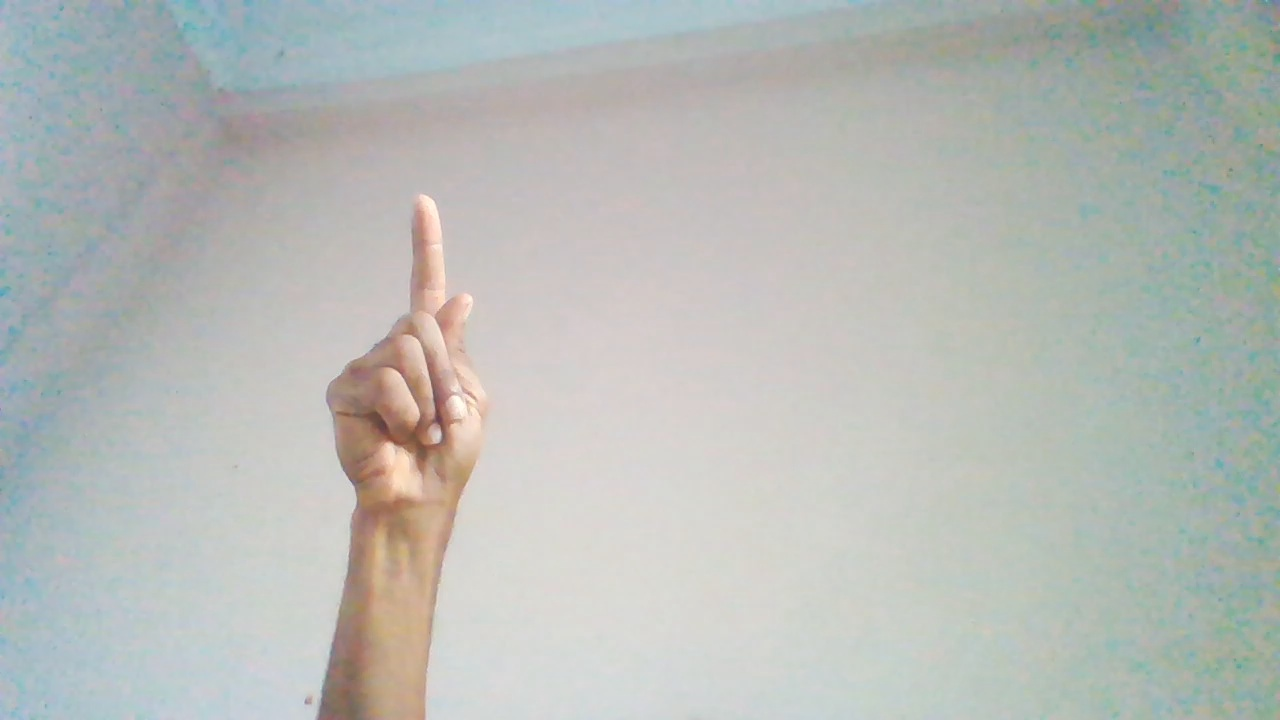ne: (323, 194, 488, 598)
